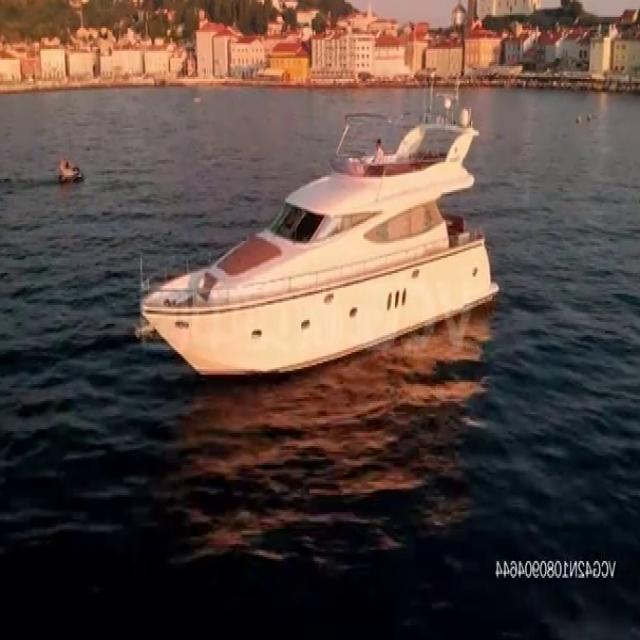houseboat: (134, 97, 496, 388)
